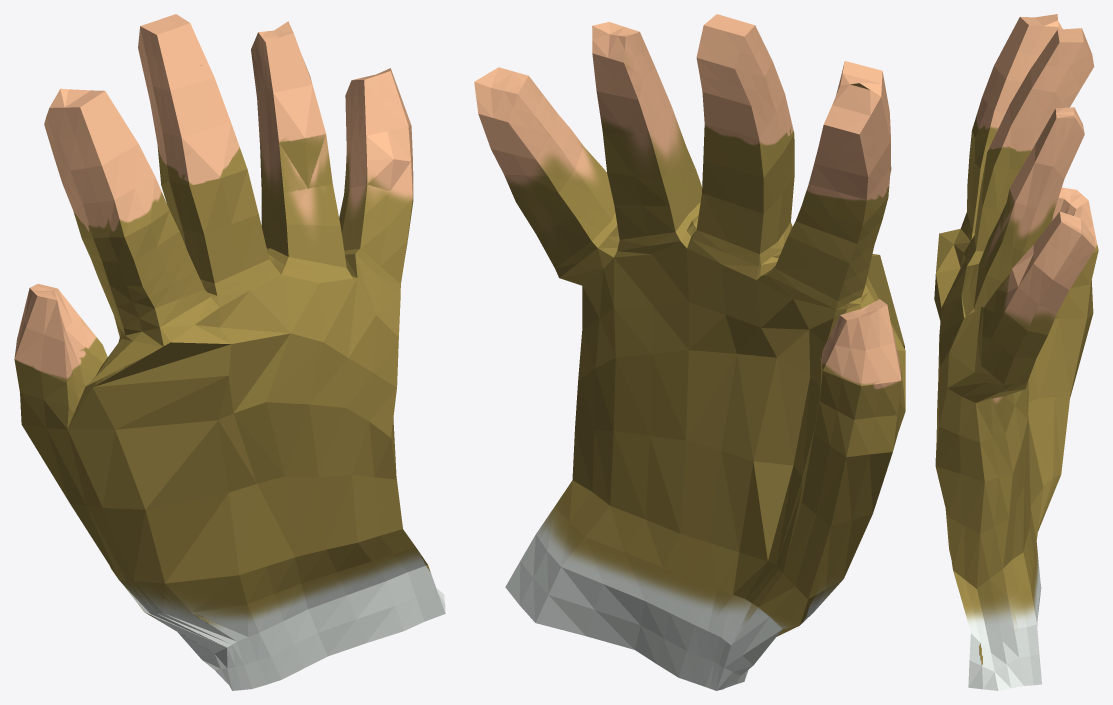
File: grip0012.obj
3 renders of one model, left to right at view 1: azimuth 30°, elevation 25°; view 2: azimuth 150°, elevation 25°; view 3: azimuth 270°, elevation 25°, orthographic. The views are drawn at different scales.
Visible parts, largest first — view 1: Hand; view 2: Hand; view 3: Hand.
Boxes of the visible parts, x1,y1,x2,y2 form: Hand: (14,14,445,690); Hand: (474,14,905,690); Hand: (934,14,1098,690).
Size of the model in its own units: 3.08 by 4.82 by 1.21.
